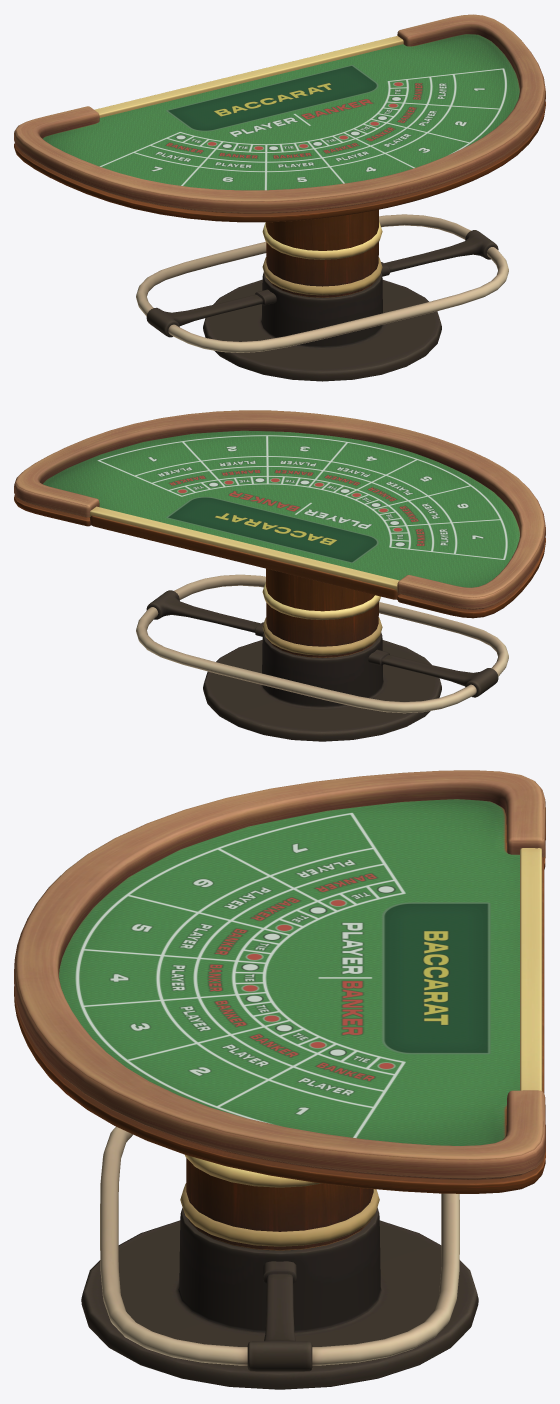
Rendered from baccarat_table.web.glb.
The picture shows the model from 3 angles, top to bottom: view 1: azimuth 30°, elevation 25°; view 2: azimuth 150°, elevation 25°; view 3: azimuth 270°, elevation 25°; orthographic projection. The views are drawn at different scales.
Visible parts, largest first — view 1: VCAP_BaccaratTable, VCAP_BaccaratTable_Design; view 2: VCAP_BaccaratTable, VCAP_BaccaratTable_Design; view 3: VCAP_BaccaratTable, VCAP_BaccaratTable_Design.
Part boxes in pixels (x1,y1,x2,y2): VCAP_BaccaratTable: [14, 14, 545, 381]; VCAP_BaccaratTable_Design: [100, 65, 506, 190]; VCAP_BaccaratTable: [14, 410, 545, 741]; VCAP_BaccaratTable_Design: [97, 435, 507, 562]; VCAP_BaccaratTable: [14, 770, 545, 1389]; VCAP_BaccaratTable_Design: [75, 813, 490, 1137].
Size of the model in its own units: 2.54 by 1.04 by 1.46.
2 materials, 2 textured.
